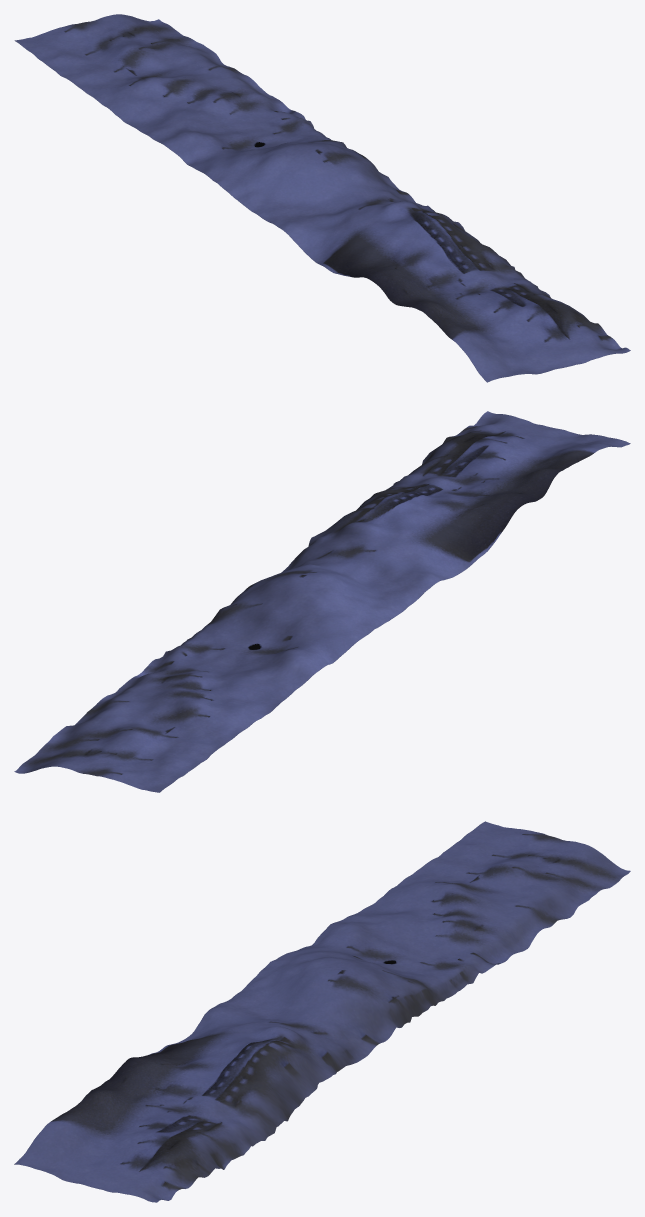
File: Sol.glb
The picture shows the model from 3 angles, top to bottom: view 1: azimuth 30°, elevation 25°; view 2: azimuth 150°, elevation 25°; view 3: azimuth 330°, elevation 25°; orthographic projection.
Parts seen in each view (by area): view 1: Sol_CH1; view 2: Sol_CH1; view 3: Sol_CH1.
Part boxes in pixels (x1=…): Sol_CH1: x1=14, y1=14, x2=630, y2=382; Sol_CH1: x1=14, y1=411, x2=630, y2=792; Sol_CH1: x1=14, y1=821, x2=630, y2=1202.
Size of the model in its own units: 9.95 by 3.01 by 52.04.
1 material, 1 textured.
